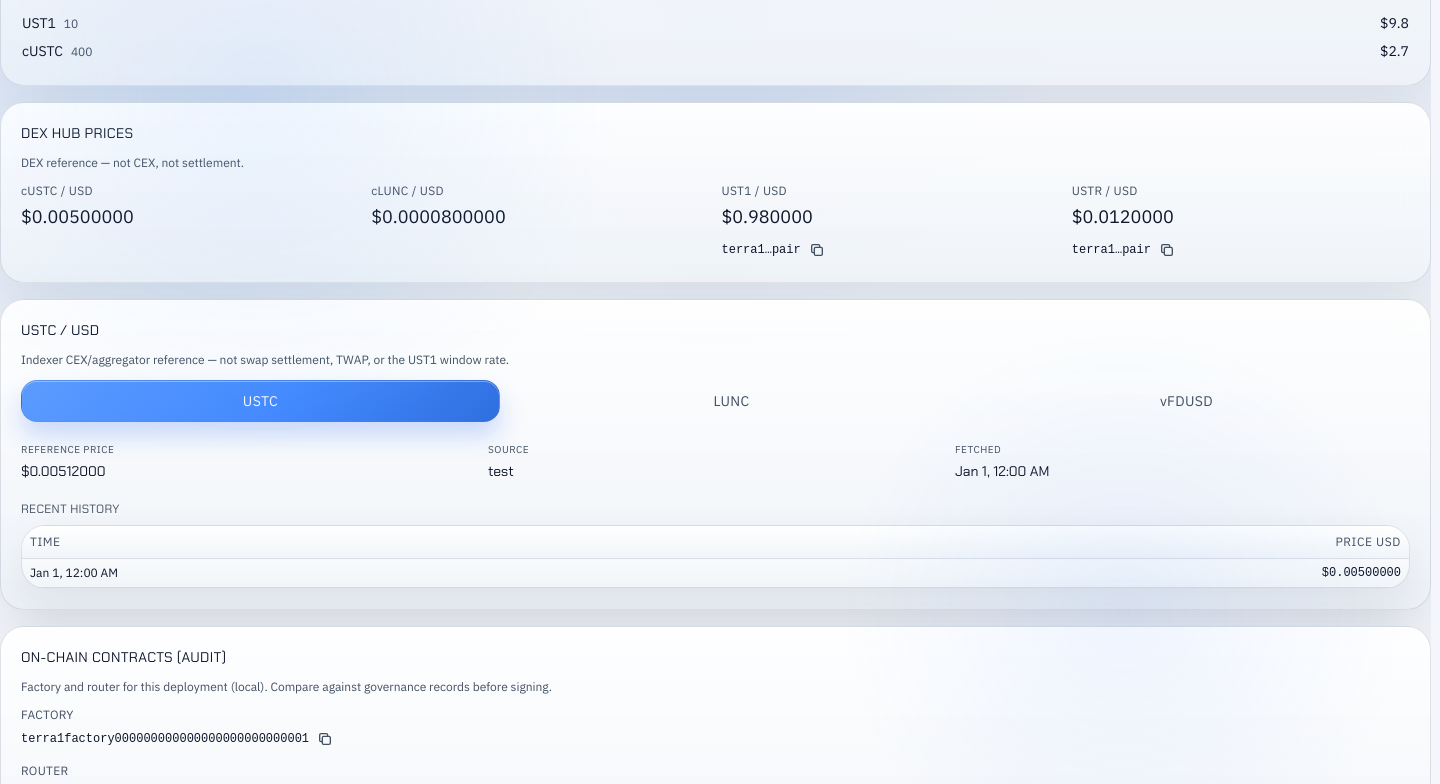
Test: ProtocolPage (GitLab #550 / #378 / #569) › preserves mixed-case product tickers on hub dts and oracle chrome (#1240)
(page scrolled)
Expected: the text "cUSTC / USD" is shown, [21, 183, 93, 198]
Expected: the tab with test id "protocol-oracle-tab-vfdusd" reads "vFDUSD", [963, 380, 1410, 422]
Click the tab with test id "protocol-oracle-tab-lunc" at (732, 401), box [508, 380, 955, 422]
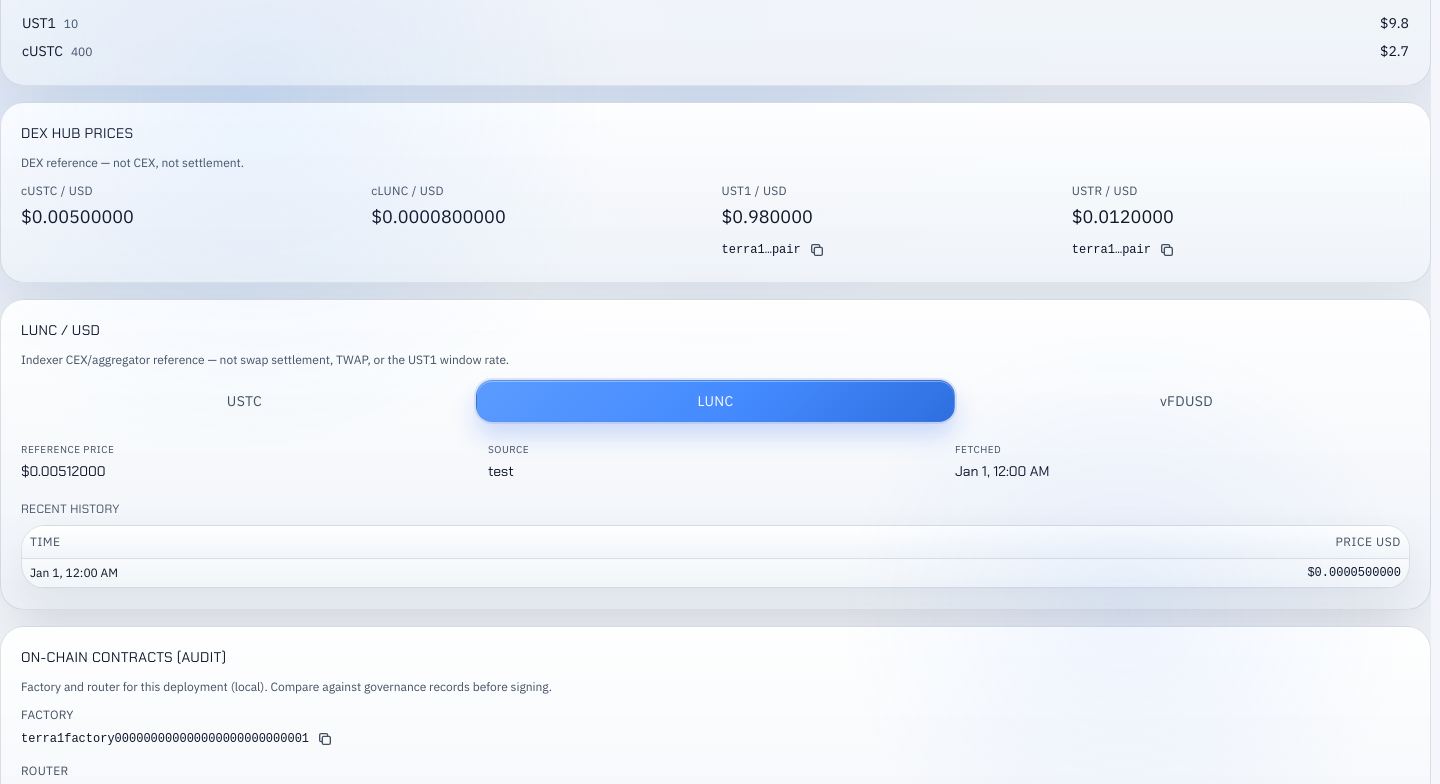
Click the tab with test id "protocol-oracle-tab-vfdusd" at (1186, 401), box [963, 380, 1410, 422]
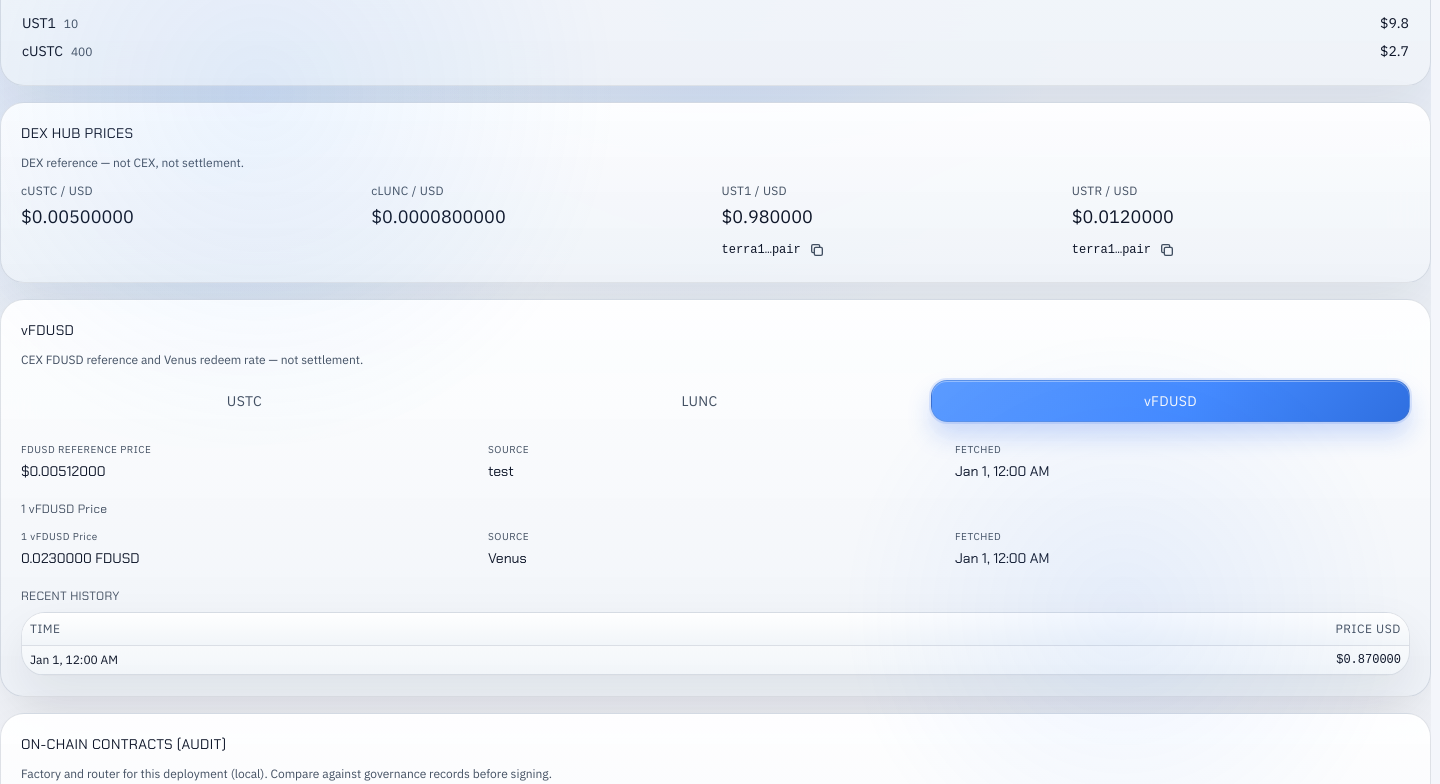
Expected: the text "FDUSD reference price" is shown, [21, 443, 151, 456]
Expected: the element with test id "protocol-oracle" shows "CEX FDUSD reference and Venus redeem rate — not settlement", [21, 352, 363, 367]
